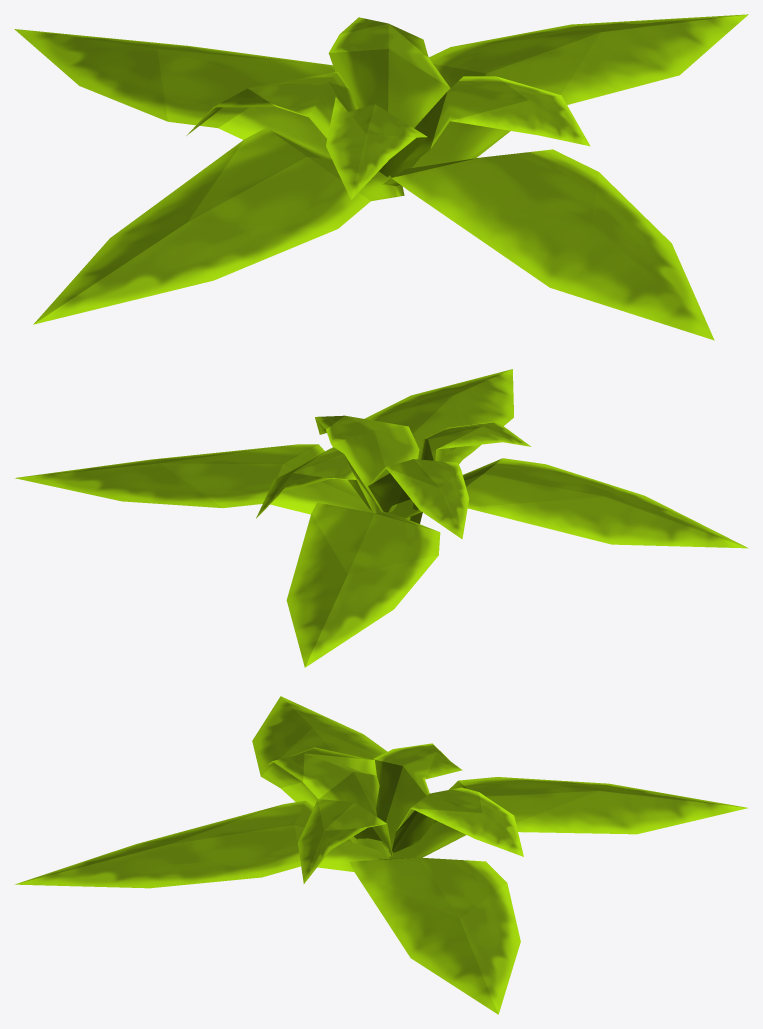
The model's file is simple-fern.gltf.
3 renders of one model, top to bottom at view 1: azimuth 30°, elevation 25°; view 2: azimuth 150°, elevation 25°; view 3: azimuth 270°, elevation 25°, orthographic. The views are drawn at different scales.
Parts seen in each view (by area): view 1: Plane; view 2: Plane; view 3: Plane.
Boxes of the visible parts, x1=… form: Plane: x1=14, y1=14, x2=748, y2=340; Plane: x1=14, y1=369, x2=748, y2=667; Plane: x1=15, y1=696, x2=747, y2=1014.
Bounding box in the file's own units: 3.21 × 0.4172 × 3.18.
1 material, 1 textured.
